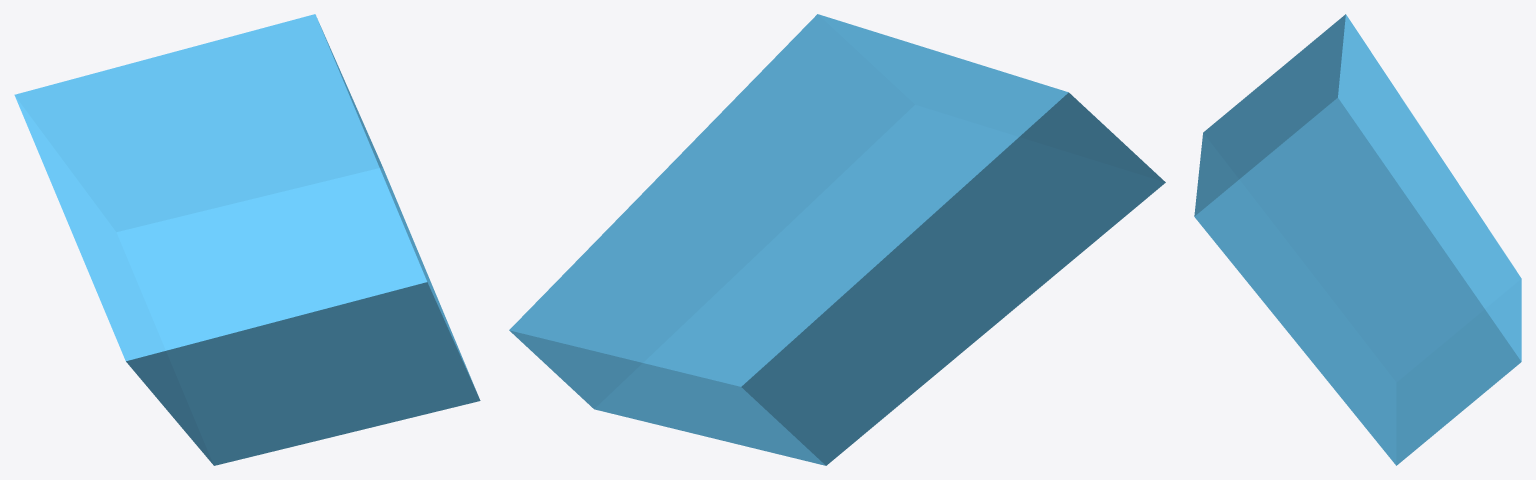
File: Event_420604493_HBrechit_15.fbx
The picture shows the model from 3 angles, left to right: view 1: azimuth 30°, elevation 25°; view 2: azimuth 150°, elevation 25°; view 3: azimuth 270°, elevation 25°; orthographic projection. The views are drawn at different scales.
Parts seen in each view (by area): view 1: Model; view 2: Model; view 3: Model.
Boxes of the visible parts, bbox=[...] form: Model: bbox=[14, 14, 480, 465]; Model: bbox=[509, 14, 1165, 465]; Model: bbox=[1194, 14, 1521, 465].
Bounding box in the file's own units: 0.8851 × 0.7893 × 0.7742.
